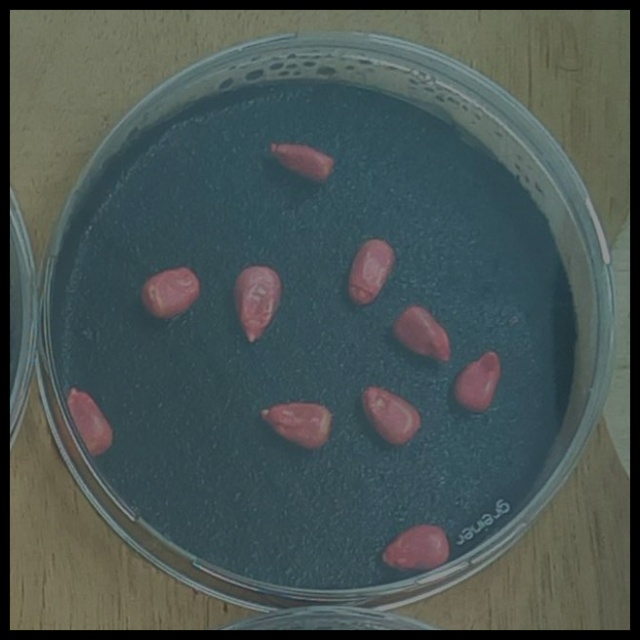Zea mays: (225, 259, 287, 352), (374, 517, 456, 584), (252, 394, 338, 457), (384, 297, 457, 369), (354, 380, 426, 452), (133, 259, 206, 328), (445, 344, 508, 420), (261, 134, 342, 193), (341, 232, 400, 313), (59, 381, 118, 461)
